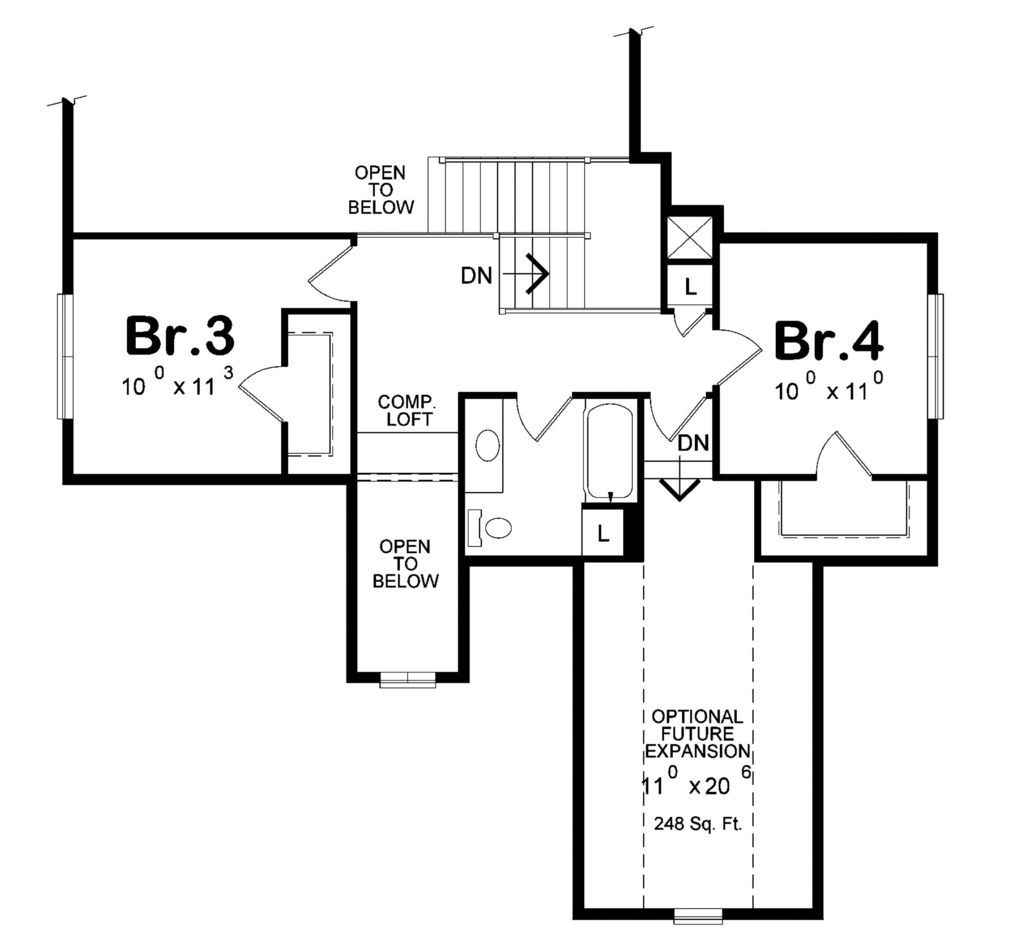door: (808, 425, 887, 487), (500, 387, 577, 443), (709, 316, 767, 382), (236, 362, 299, 422), (308, 238, 362, 304), (642, 391, 709, 444), (675, 306, 711, 344)
large_sink: (470, 503, 521, 553)
small_sink: (465, 391, 511, 490)
stairs: (408, 147, 662, 309)
tub: (586, 387, 633, 503)
window: (49, 285, 98, 425), (924, 291, 952, 423), (377, 666, 445, 694), (673, 901, 727, 929)
